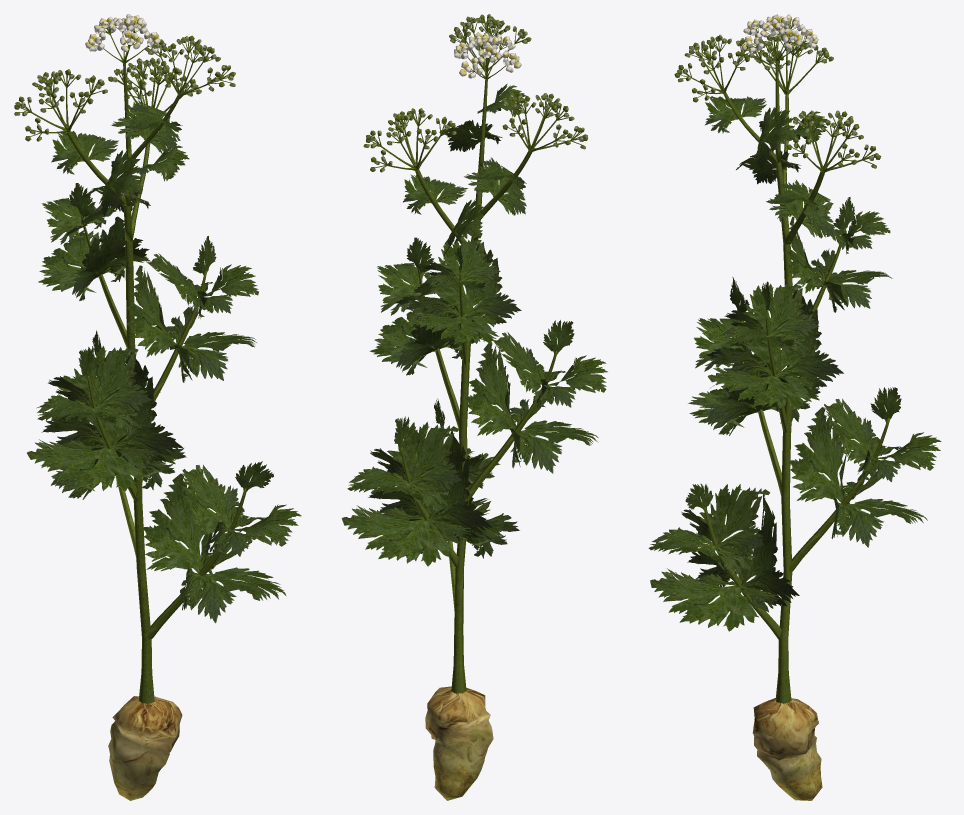
3 views of the same model, side by side, from view 1: azimuth 30°, elevation 25°; view 2: azimuth 150°, elevation 25°; view 3: azimuth 270°, elevation 25° (orthographic). The views are drawn at different scales.
Visible parts, largest first — view 1: VG02_8; view 2: VG02_8; view 3: VG02_8.
Part boxes in pixels (x1,y1,x2,y2): VG02_8: [14, 14, 301, 800]; VG02_8: [341, 14, 607, 800]; VG02_8: [648, 14, 941, 800].
Bounding box in the file's own units: 0.1819 × 0.5495 × 0.1962.
